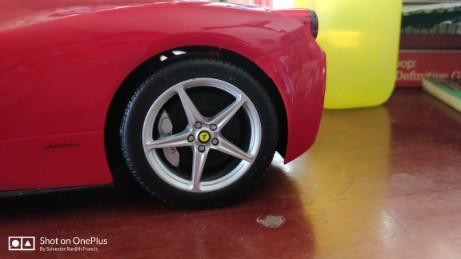aligned_wheel: (108, 43, 313, 215)
